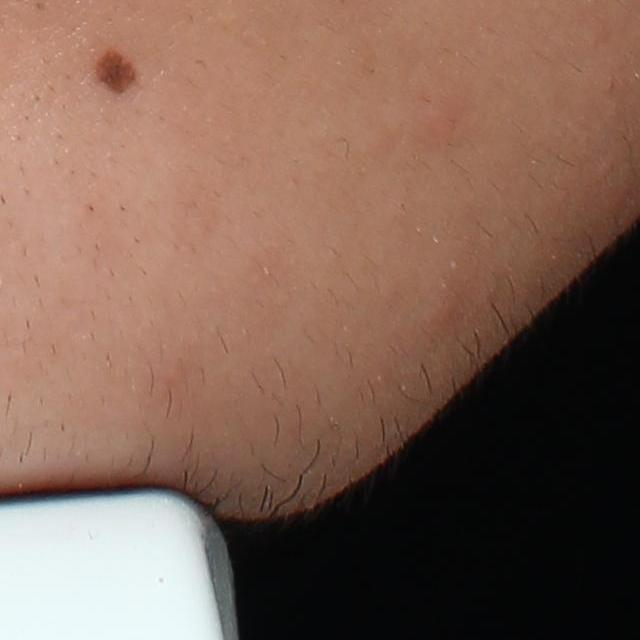nevus: (93, 46, 140, 96)
